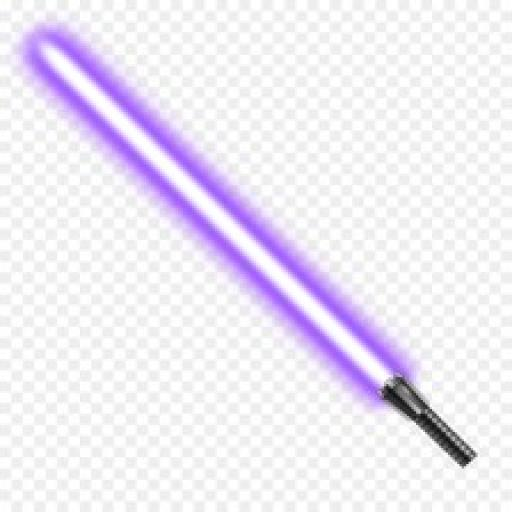lightsaber: (32, 38, 479, 468)
